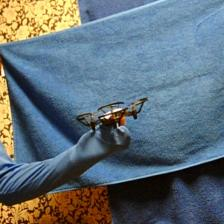drone: (76, 96, 146, 131)
